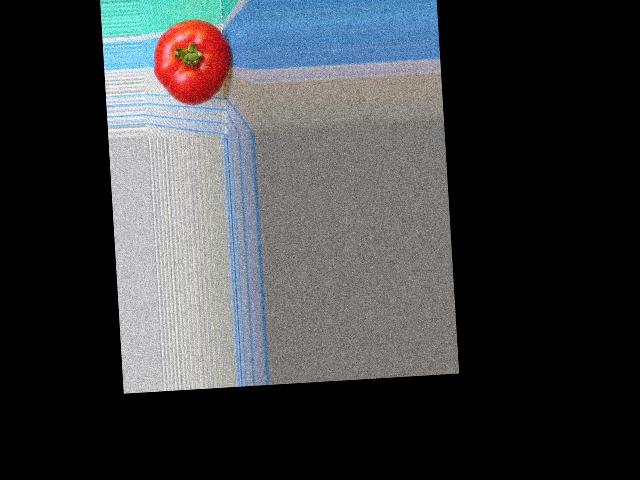tomato: (151, 17, 233, 106)
